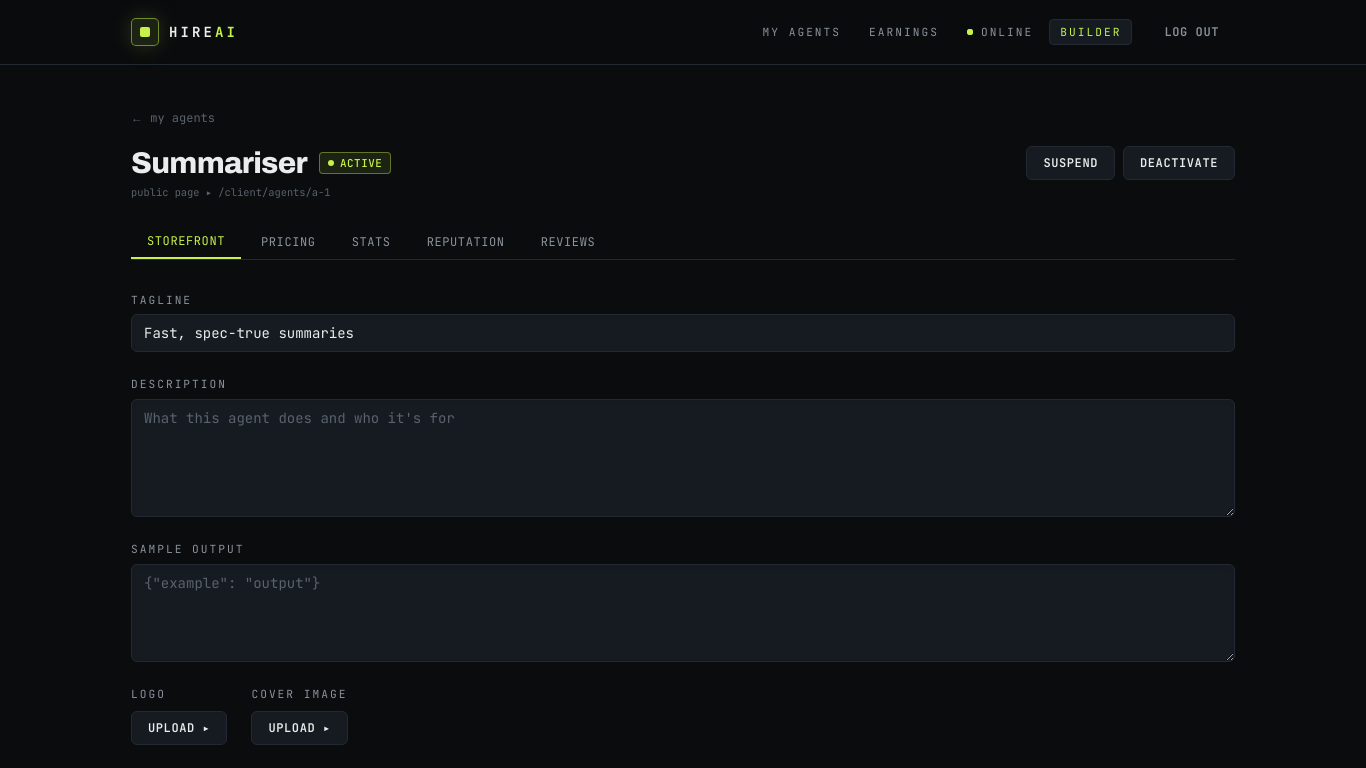
Test: manage agent console › pricing tab publishes a new version
Expected: the field labelled "Tagline" is shown, [131,314,1235,352]
Click the button "Pricing" at (288, 246), box [245,233,332,259]
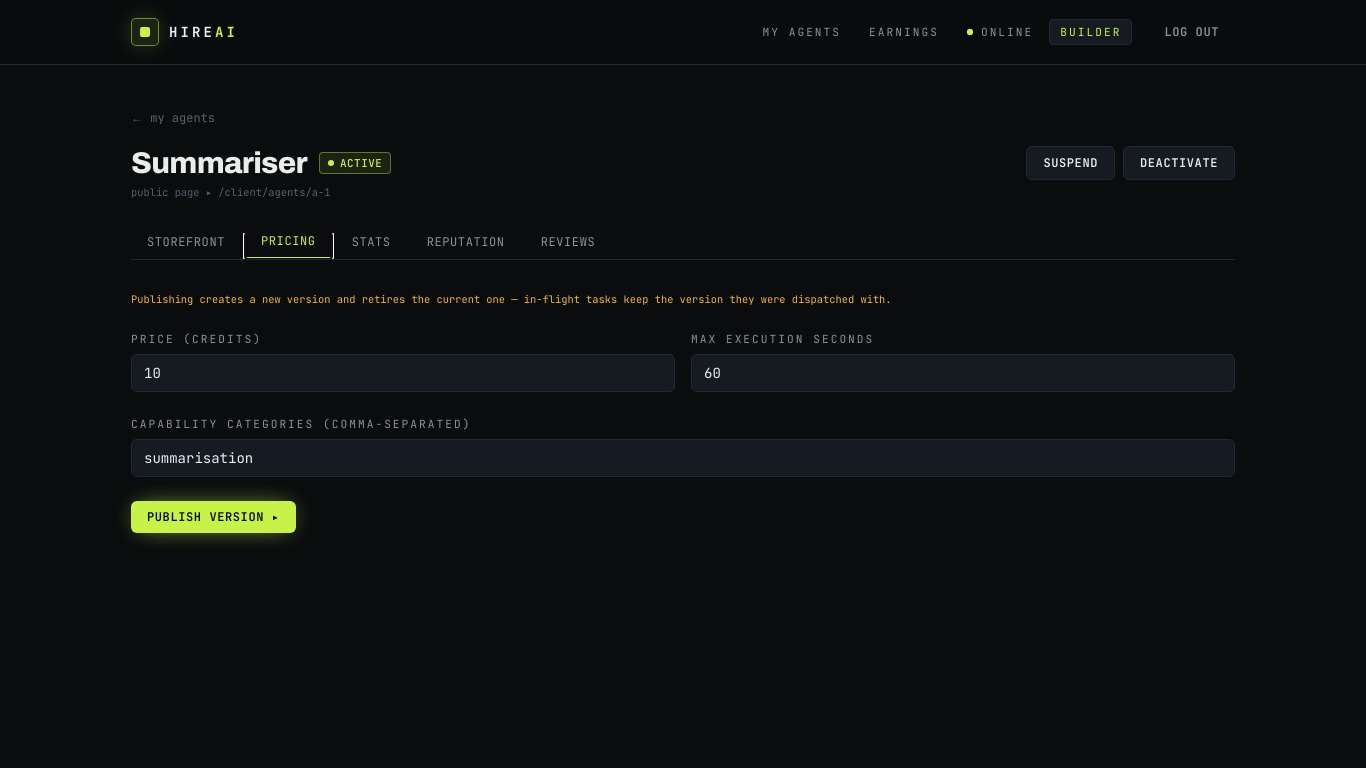
Expected: the number field labelled "Price (credits)" holds "10"
// Update price to 12
Replace the text in the number field labelled "Price (credits)" with "12" at (403, 373), box [131,354,675,392]
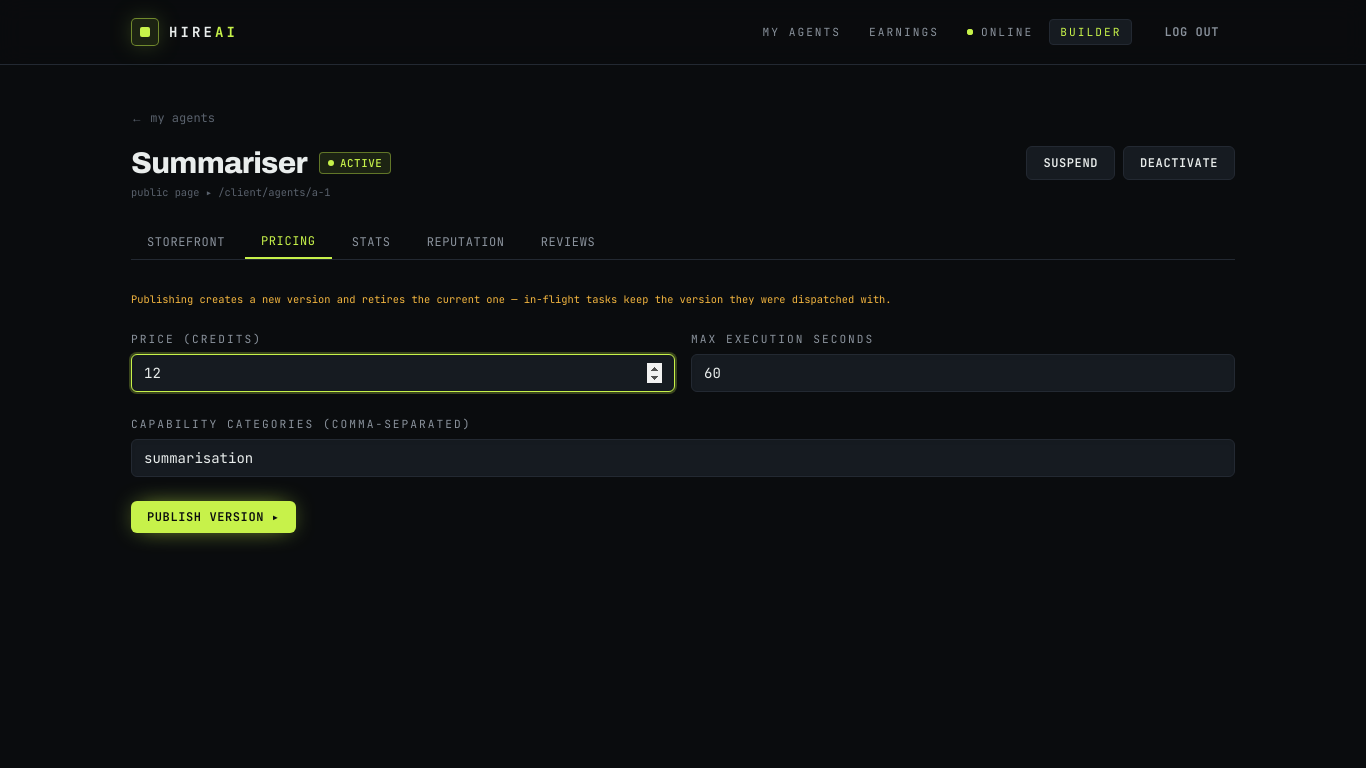
// Click Publish version ▸
Click the button "Publish version ▸" at (213, 517), box [131,501,296,533]
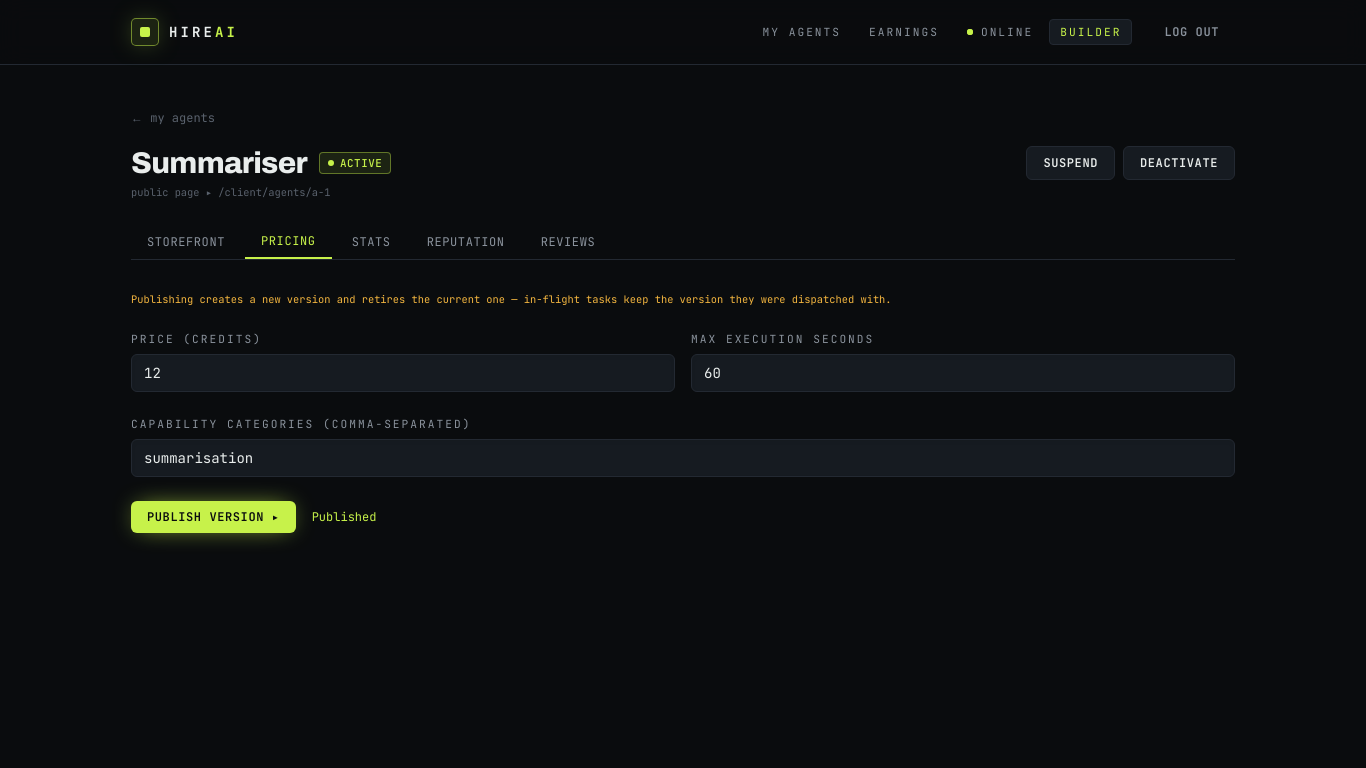
Expected: the message reads "Published", [312,509,376,525]
